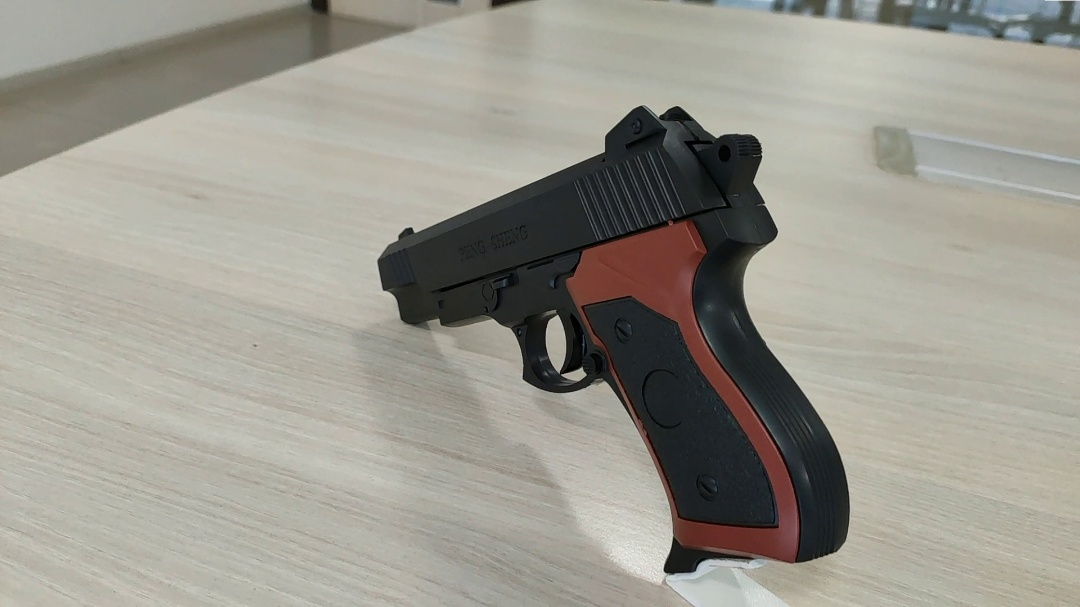gun: (371, 100, 854, 577)
